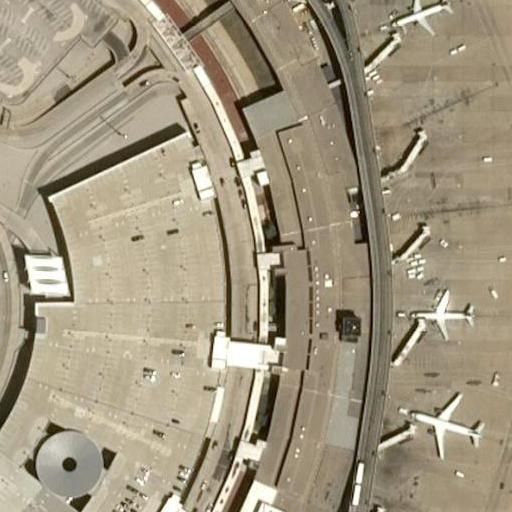Aircraft: (405, 390, 487, 463), (413, 290, 477, 338), (385, 0, 457, 39)
